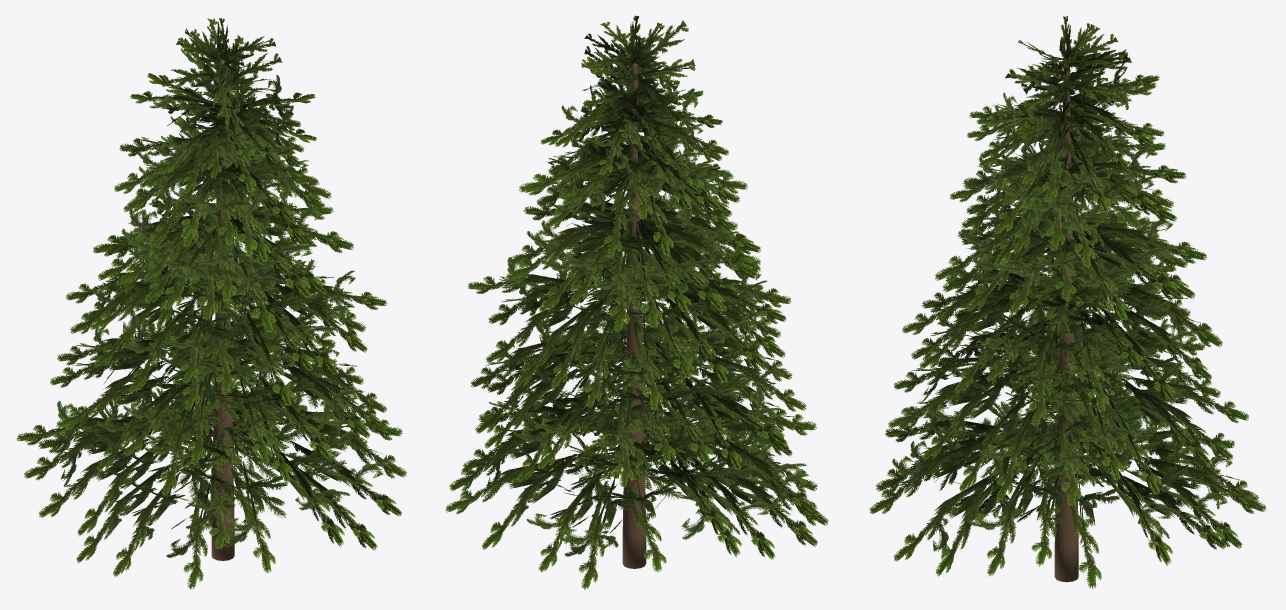
The model's file is ChristmasTreeMonument.fbx.
The picture shows the model from 3 angles, left to right: view 1: azimuth 30°, elevation 25°; view 2: azimuth 150°, elevation 25°; view 3: azimuth 270°, elevation 25°; orthographic projection. The views are drawn at different scales.
Parts seen in each view (by area): view 1: ChristmasTreePart; view 2: ChristmasTreePart; view 3: ChristmasTreePart.
Part boxes in pixels (bbox=[...]): ChristmasTreePart: bbox=[16, 18, 406, 589]; ChristmasTreePart: bbox=[445, 15, 828, 589]; ChristmasTreePart: bbox=[869, 16, 1265, 588].
Size of the model in its own units: 2106 by 3188 by 2095.
2 materials, 1 textured.
